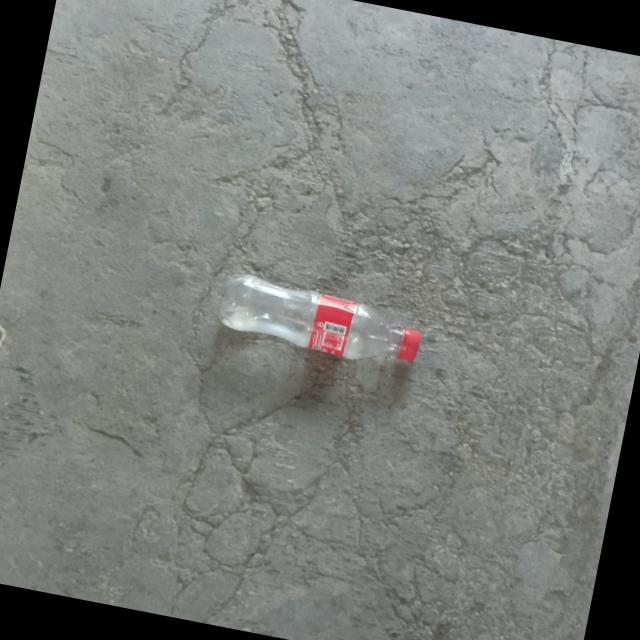Bottle: (220, 275, 422, 362)
